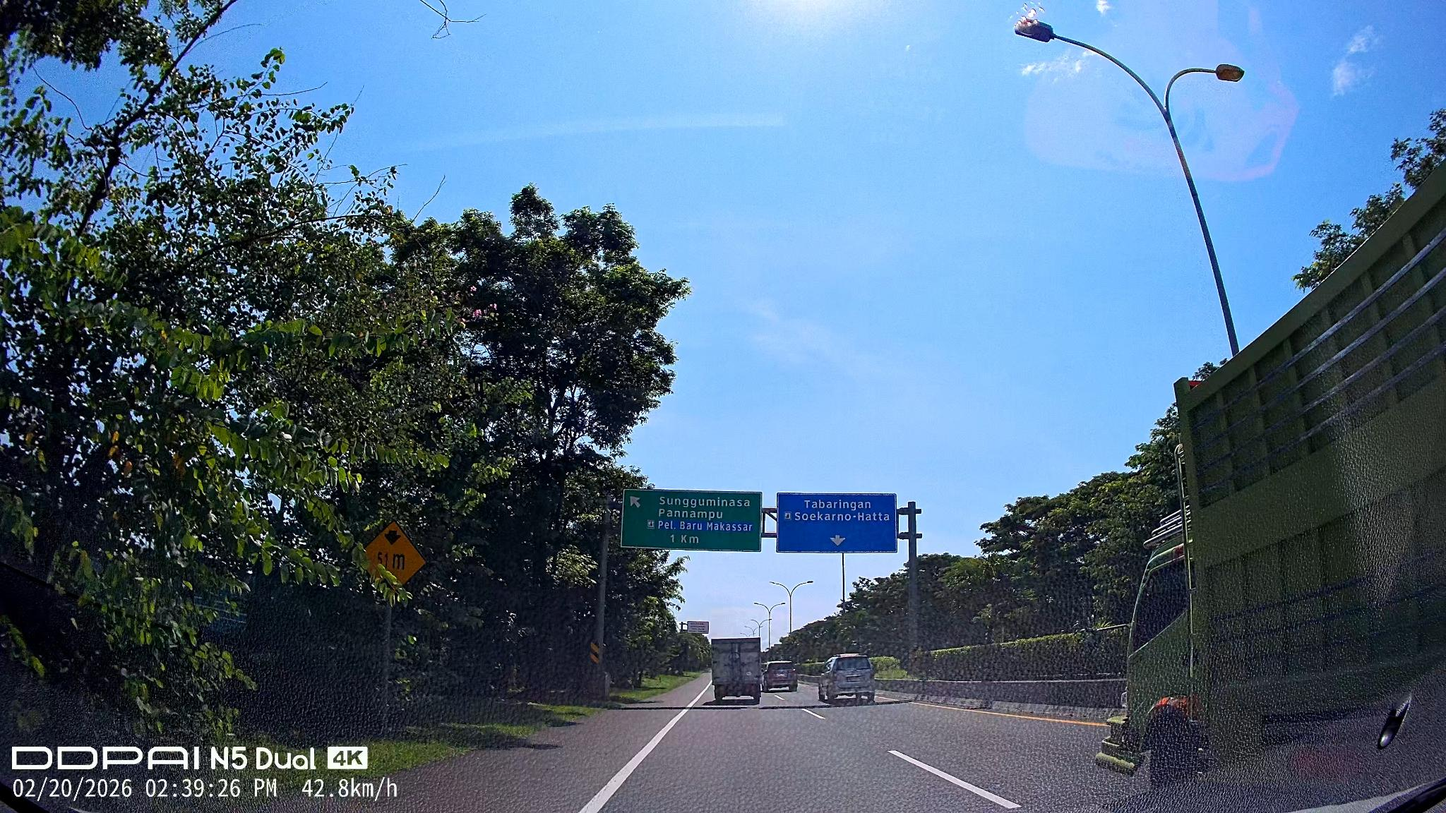rambu_teks: (620, 488, 763, 552), (777, 492, 899, 555)
